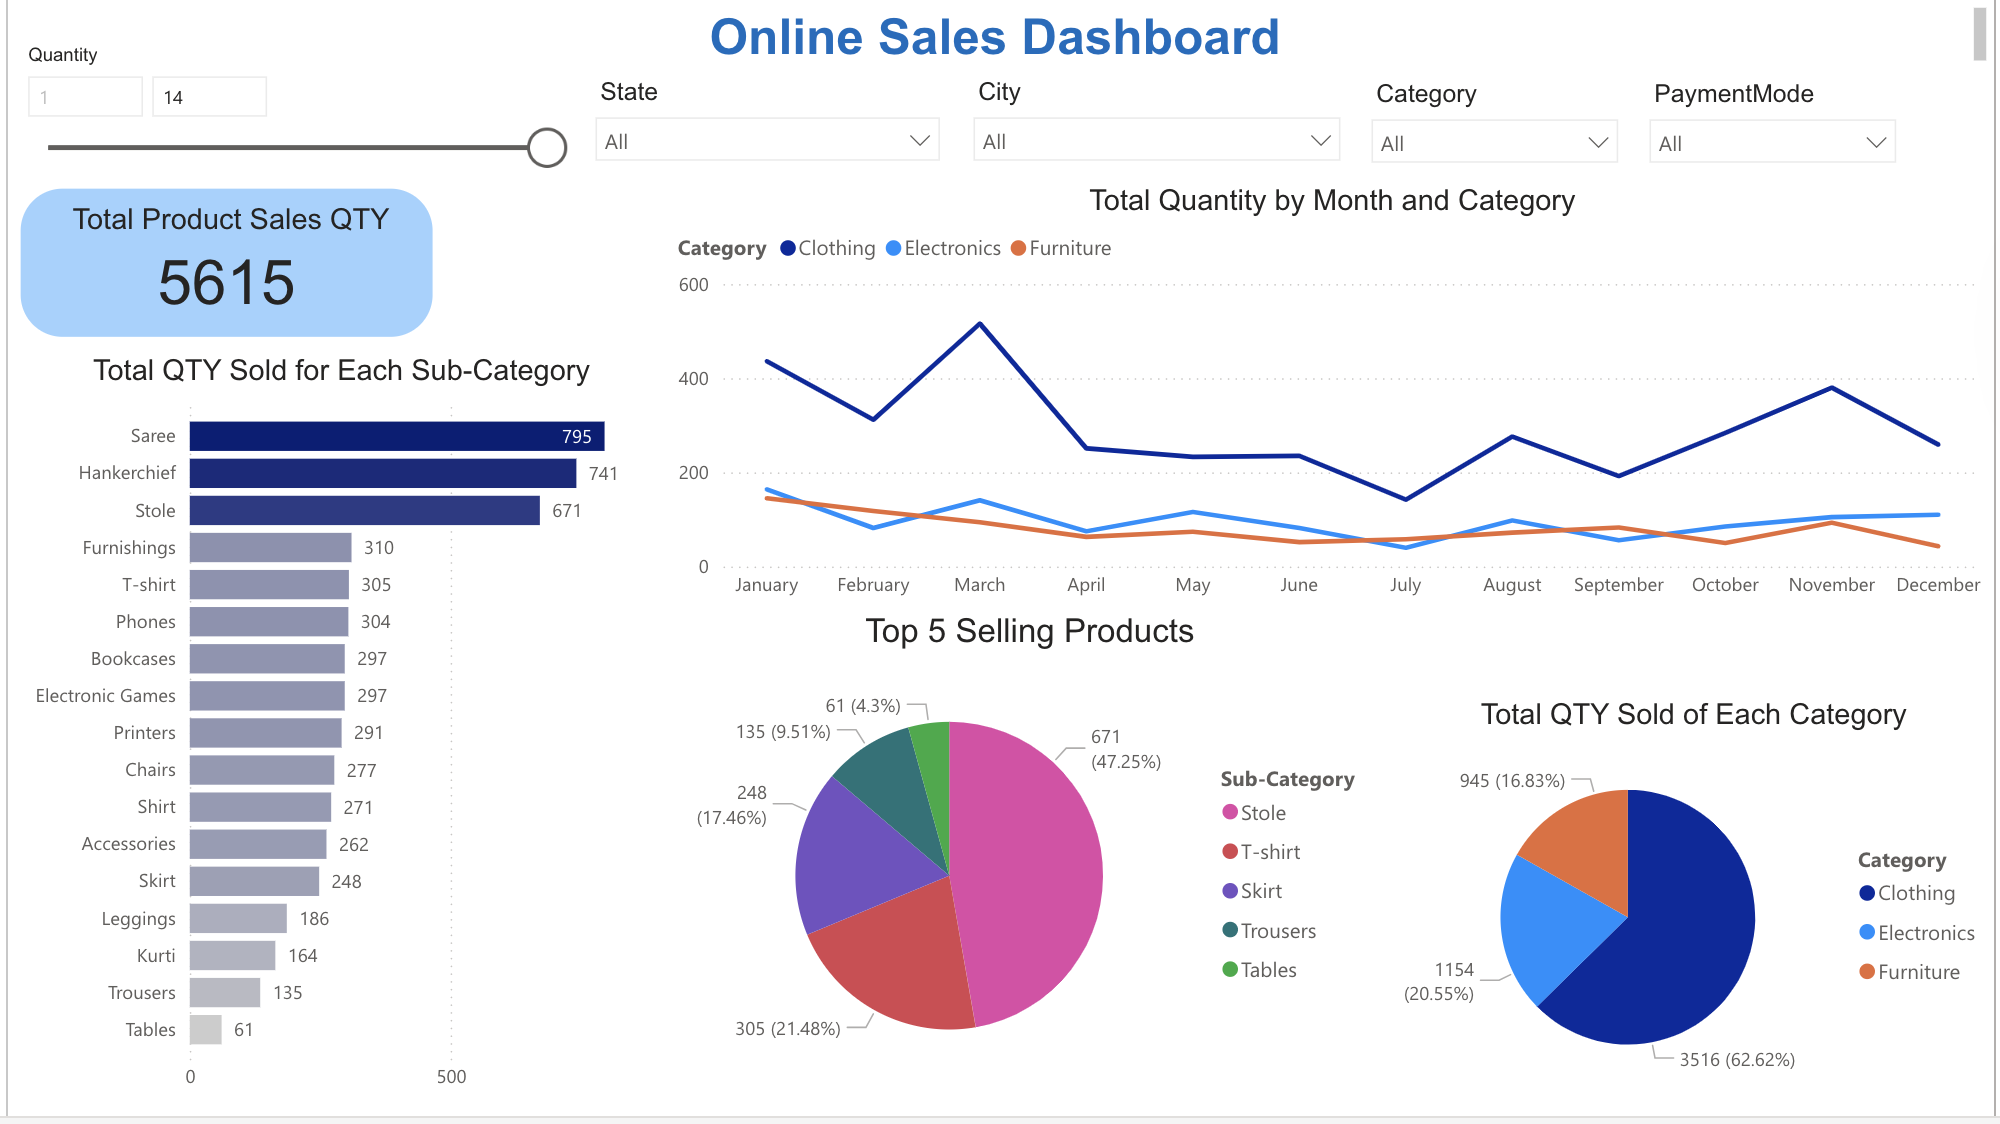

Layout of this report page (visuals, bound fields, positions):
{"tool":"powerbi","page":{"name":"Product Sales Overview","canvas":[1280,720],"ordinal":0},"visuals":[{"type":"clusteredBarChart","title":"Total QTY Sold for Each Sub-Category","fields":{"Category":["Details.Sub-Category"],"Y":["Sum(Details.Quantity)"]},"box":[4.9,238.6,419.5,483.7],"z":0},{"type":"card","title":"Total Product Sales QTY","fields":{"Values":["Product.Total Quantity"]},"box":[5,128.8,271.2,101.2],"z":1000},{"type":"slicer","fields":{"Values":["Details.Quantity"]},"box":[0,32.9,368.5,90.5],"z":2000},{"type":"slicer","fields":{"Values":["Details.Category"]},"box":[869,56.1,179,72.8],"z":3000},{"type":"textbox","box":[0,10,1280,45.4],"z":4000},{"type":"pieChart","title":"Total QTY Sold of Each Category","fields":{"Category":["Details.Category"],"Y":["Sum(Details.Quantity)"]},"box":[890.1,460.7,391.6,261.6],"z":5000},{"type":"pieChart","title":"Top 5 Selling Products","fields":{"Y":["Product.Total Quantity"],"Category":["Details.Sub-Category"]},"box":[426.1,404.7,464,315.9],"z":6000},{"type":"areaChart","fields":{"Y":["Product.Total Quantity"],"Category":["Orders.Parsed Order Date.Variation.Date Hierarchy.Month"],"Series":["Product.Category"]},"box":[426.1,128.3,853.9,276.4],"z":7000},{"type":"slicer","fields":{"Values":["Orders.State"]},"box":[368.5,55.9,241.9,72.4],"z":8000},{"type":"slicer","fields":{"Values":["Orders.City"]},"box":[612,55.9,256.7,72.4],"z":9000},{"type":"slicer","fields":{"Values":["Details.PaymentMode"]},"box":[1048,56.1,179,72.8],"z":9001}]}

Visuals, with their boxes in screenshot pixels (x1, y1, x2, y2), scaled from the page's 1280x720 canvas onto the 2000x1124 screenshot:
"Total QTY Sold for Each Sub-Category" clusteredBarChart: bbox(8, 372, 663, 1123)
"Total Product Sales QTY" card: bbox(8, 201, 432, 359)
slicer - Details.Quantity: bbox(0, 51, 576, 193)
slicer - Details.Category: bbox(1358, 88, 1638, 201)
textbox: bbox(0, 16, 1999, 86)
"Total QTY Sold of Each Category" pieChart: bbox(1391, 719, 1999, 1123)
"Top 5 Selling Products" pieChart: bbox(666, 632, 1391, 1123)
areaChart - Product.Total Quantity x Orders.Parsed Order Date.Variation.Date Hierarchy.Month: bbox(666, 200, 1999, 632)
slicer - Orders.State: bbox(576, 87, 954, 200)
slicer - Orders.City: bbox(956, 87, 1357, 200)
slicer - Details.PaymentMode: bbox(1638, 88, 1917, 201)
